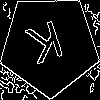K: (24, 20, 69, 74)
